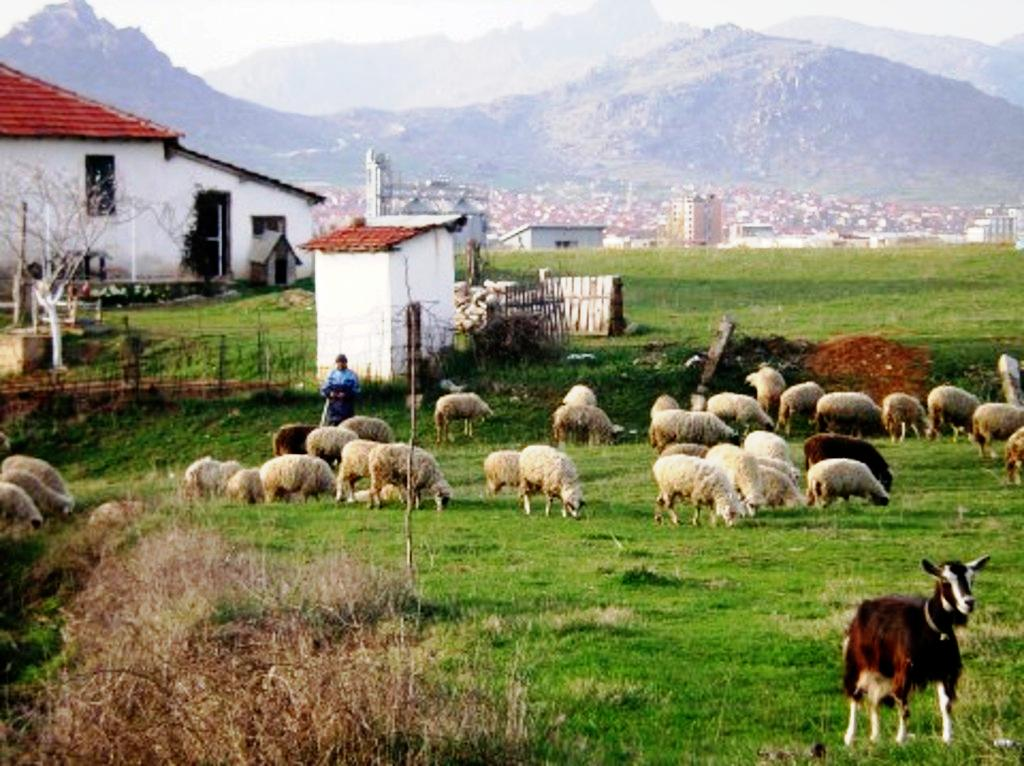Sheep: (848, 566, 973, 739), (706, 444, 796, 513), (656, 459, 741, 530), (367, 444, 453, 513), (808, 458, 892, 510), (520, 446, 582, 513), (650, 408, 738, 453), (260, 454, 336, 506), (1, 469, 72, 521), (814, 391, 884, 441), (336, 439, 386, 505), (706, 392, 774, 440), (927, 386, 982, 443), (553, 402, 621, 448), (971, 402, 1024, 458), (435, 393, 494, 442), (182, 457, 241, 504), (777, 384, 827, 437), (305, 426, 361, 471), (882, 393, 931, 444), (484, 450, 524, 498), (743, 431, 795, 467), (338, 416, 394, 445), (88, 499, 143, 528), (273, 424, 318, 458), (561, 385, 598, 410)
